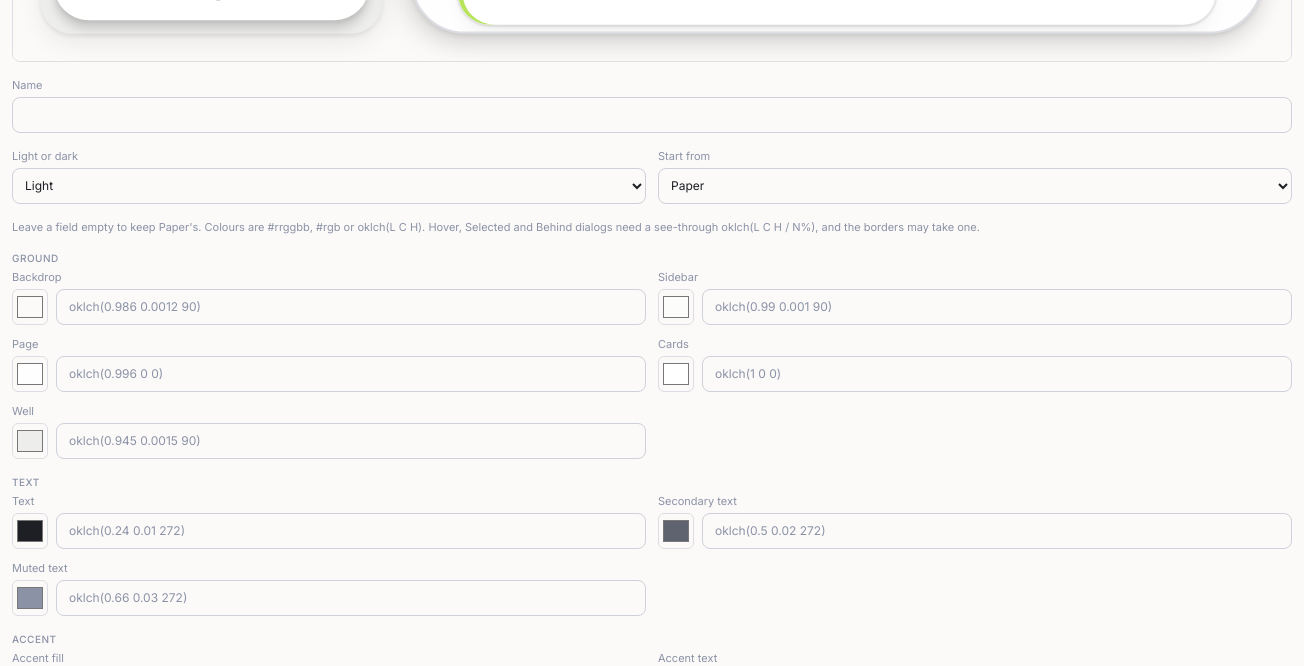
Test: ThemeBuilder › a dark theme starts from a dark built-in and previews dark
(page scrolled)
Type "#fafafa" into the field with test id "theme-field-paper0" at {"x": 351, "y": 307}, box [56,289,646,325]
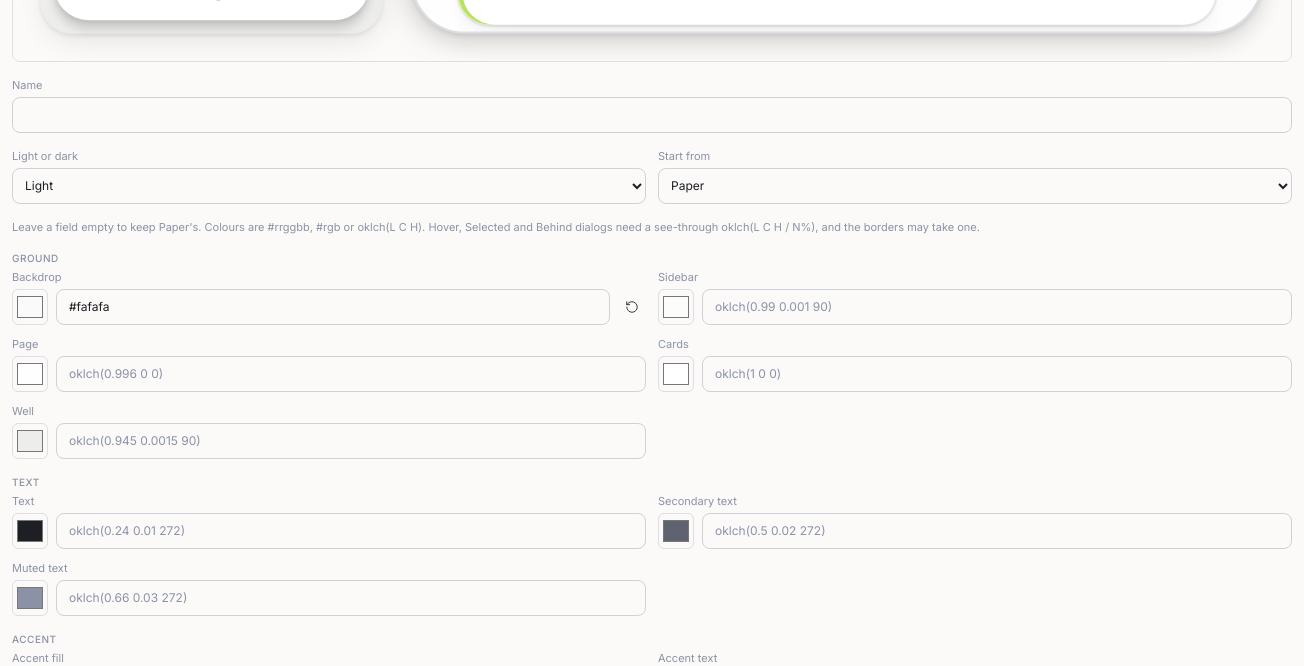
Select "Dark" in the dropdown with test id "theme-mode" at {"x": 329, "y": 186}, box [12,168,646,204]
(page scrolled)
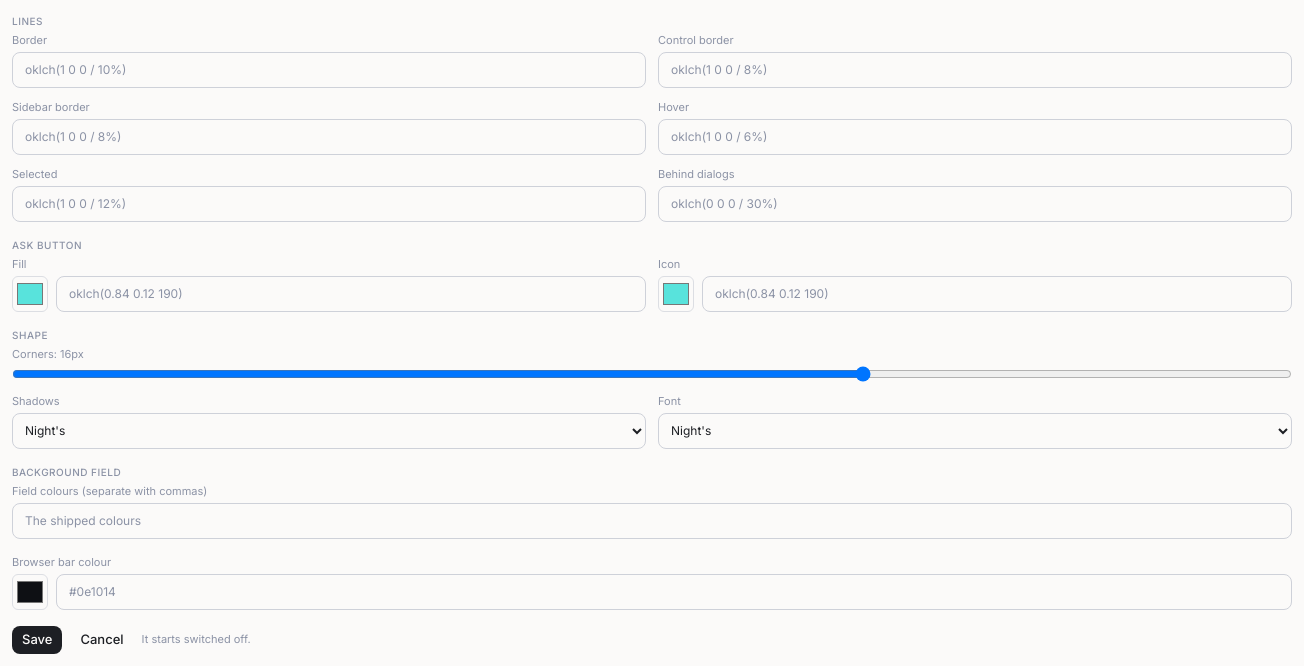
Check: the field with test id "theme-field-relayDark" is shown, box [12,503,1292,539]
